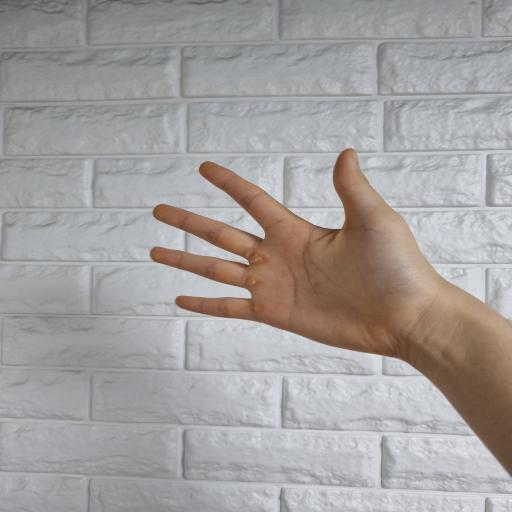Paper: (148, 148, 512, 480)
